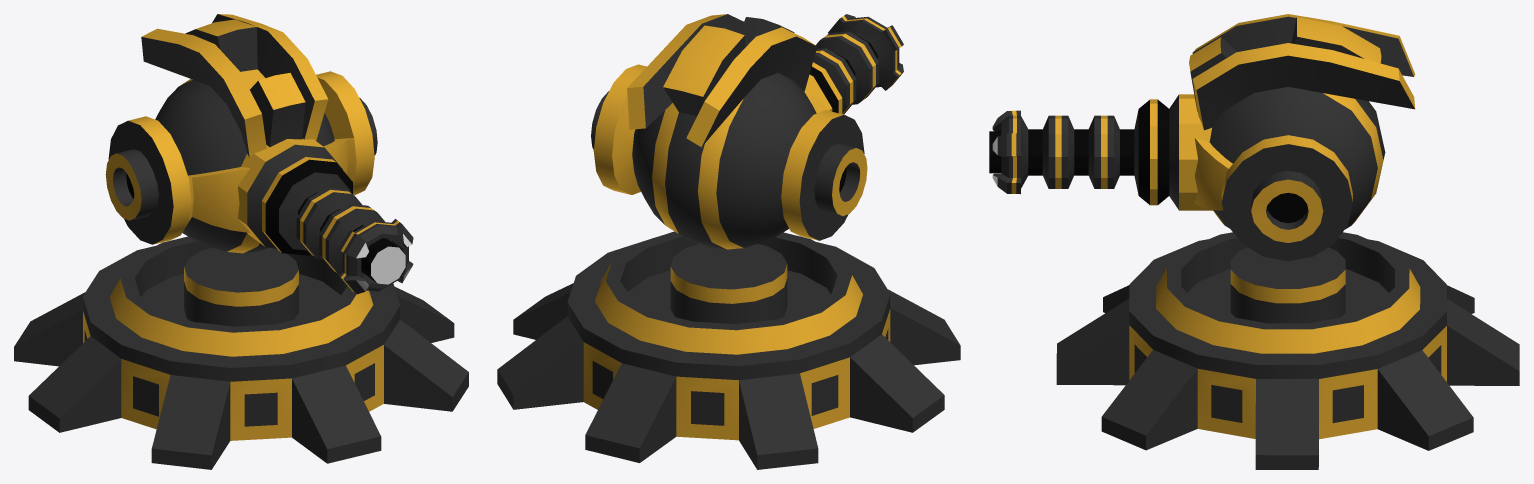
File: turret.fbx
3 views of the same model, side by side, from view 1: azimuth 30°, elevation 25°; view 2: azimuth 150°, elevation 25°; view 3: azimuth 270°, elevation 25° (orthographic).
Parts seen in each view (by area): view 1: Turret - Base, Turret - Head; view 2: Turret - Base, Turret - Head; view 3: Turret - Base, Turret - Head.
Part boxes in pixels (x1,y1,x2,y2): Turret - Base: [14, 236, 468, 469]; Turret - Head: [105, 14, 413, 294]; Turret - Base: [497, 231, 960, 469]; Turret - Head: [591, 14, 903, 249]; Turret - Base: [1056, 232, 1519, 469]; Turret - Head: [989, 14, 1415, 261].
Bounding box in the file's own units: 170 × 141 × 195.
